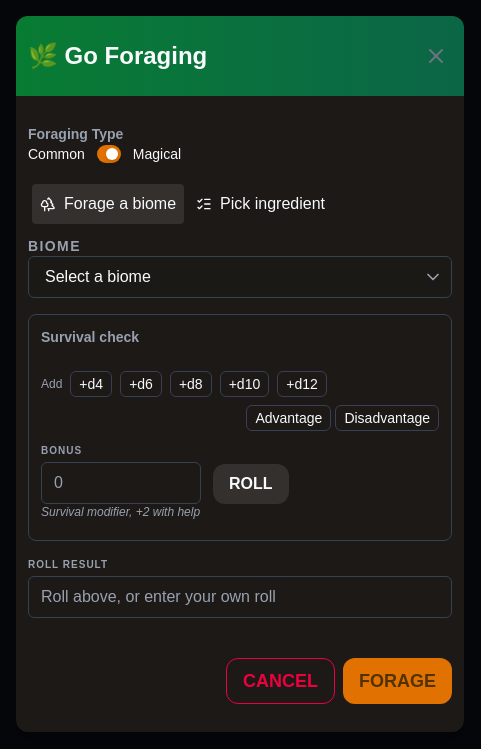
Test: components/modals/go-foraging-modal › should keep picking an ingredient as the other magical option
What coordinates should you click on to do the following:
click the button "Pick ingredient"
I would click on:
 (261, 204)
Its box is [188,184,333,224].
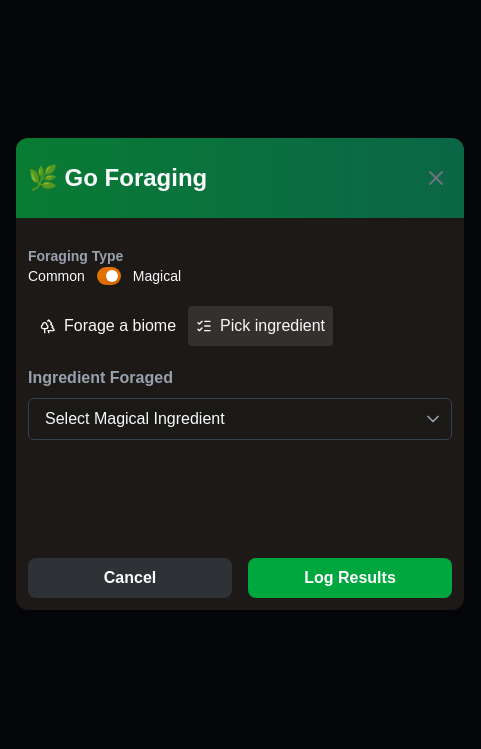
Expected: the text "Ingredient Foraged" is shown, [28,369,173,386]
Expected: the button "Log Results" is shown, [248,558,452,598]
Expected: the text "Survival check" is gone
